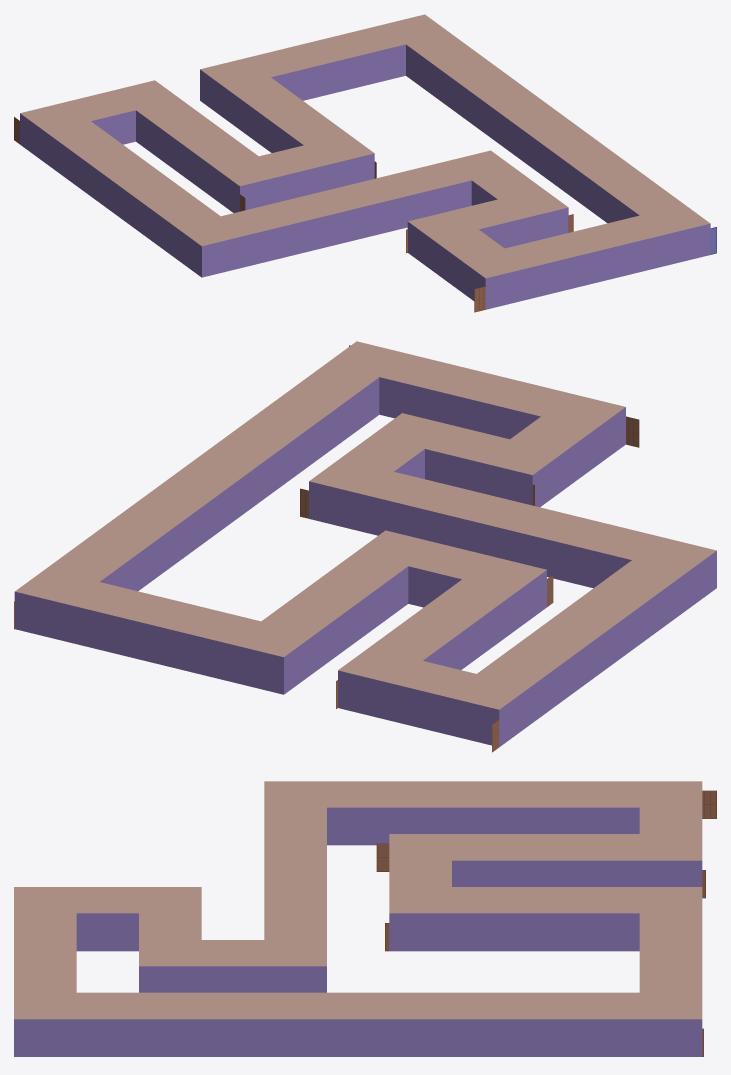
Rendered from hall.glb.
3 renders of one model, top to bottom at view 1: azimuth 30°, elevation 25°; view 2: azimuth 150°, elevation 25°; view 3: azimuth 270°, elevation 25°, orthographic. The views are drawn at different scales.
Parts seen in each view (by area): view 1: Hall; view 2: Hall; view 3: Hall.
Part boxes in pixels (x1,y1,x2,y2): Hall: (14,14,716,312); Hall: (14,341,716,752); Hall: (14,781,716,1056).
Bounding box in the file's own units: 54.85 × 4 × 67.4.
Materials: 1 (1 with a texture image).
